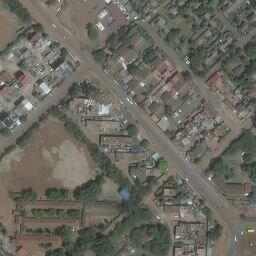tree: (21, 190, 36, 201), (210, 157, 222, 170), (156, 158, 166, 171), (127, 124, 138, 135), (127, 64, 138, 75), (145, 176, 156, 185), (242, 153, 253, 162), (202, 207, 211, 217), (139, 139, 148, 147), (182, 71, 190, 80), (19, 115, 26, 122), (164, 106, 170, 114), (200, 199, 205, 205)
